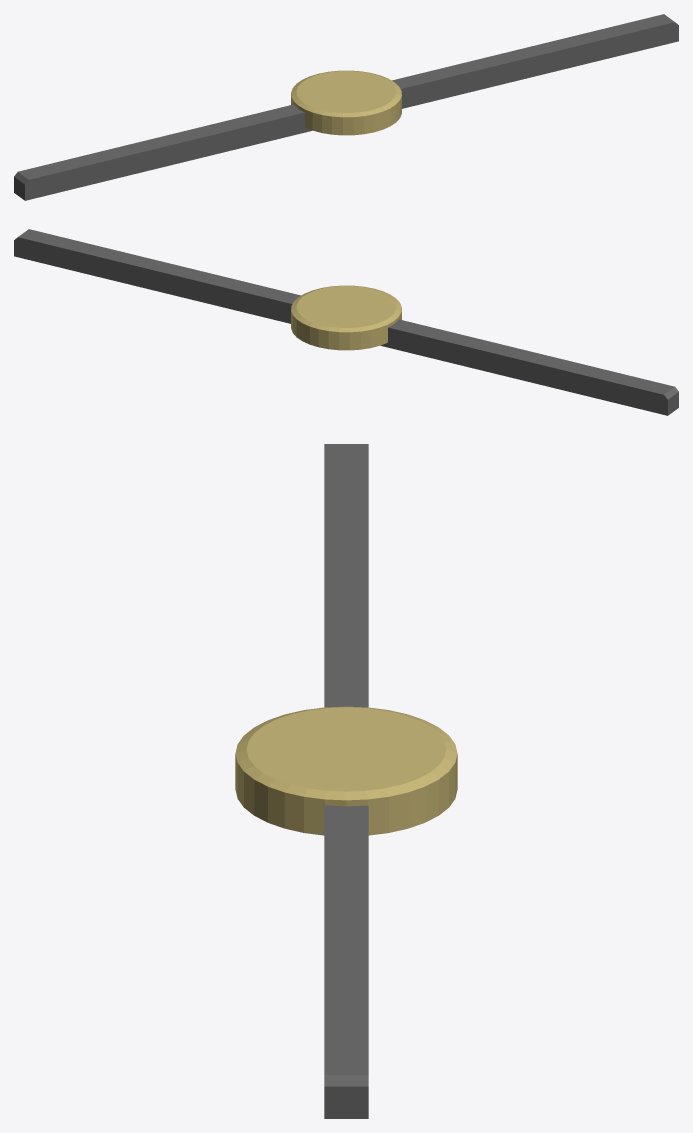
The model's file is KnobSlider.fbx.
3 views of the same model, one above another, from view 1: azimuth 30°, elevation 25°; view 2: azimuth 150°, elevation 25°; view 3: azimuth 270°, elevation 25° (orthographic). The views are drawn at different scales.
Visible parts, largest first — view 1: Volume rail, Volume nub; view 2: Volume rail, Volume nub; view 3: Volume rail, Volume nub.
Boxes of the visible parts, bbox=[...] form: Volume rail: bbox=[14, 14, 678, 200]; Volume nub: bbox=[291, 70, 401, 135]; Volume rail: bbox=[14, 229, 678, 415]; Volume nub: bbox=[291, 285, 401, 350]; Volume rail: bbox=[324, 444, 368, 1118]; Volume nub: bbox=[235, 706, 457, 835].
Bounding box in the file's own units: 340 × 12.5 × 50.
